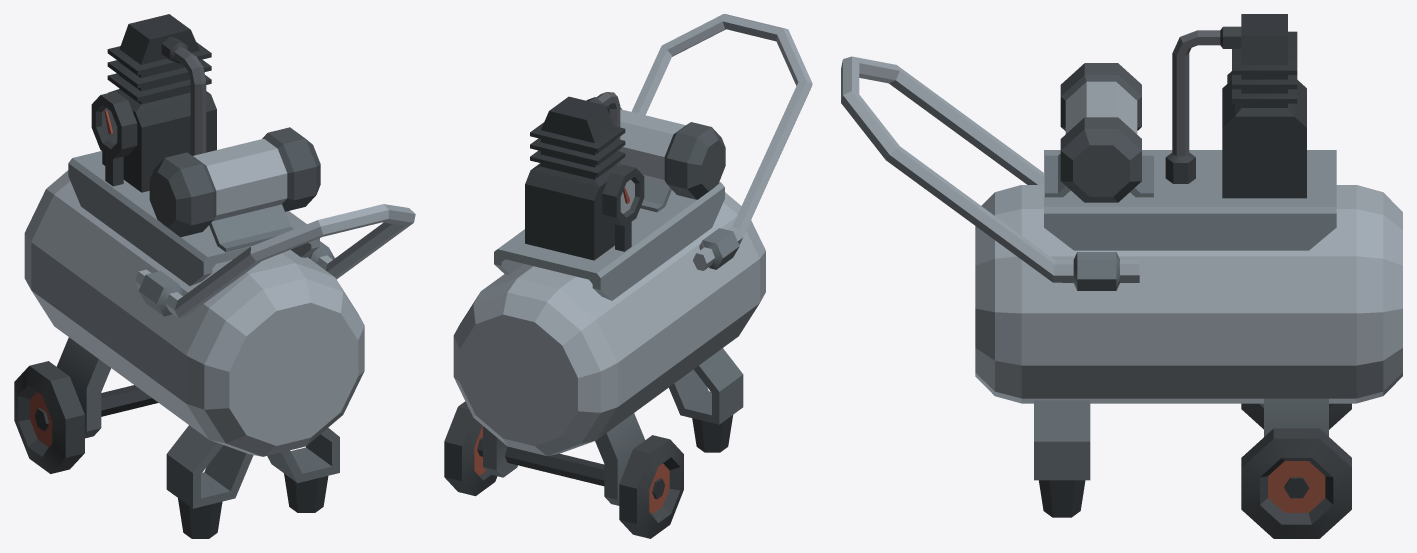
Rendered from SM_Prop_AirCompressorTank_01.fbx.
3 views of the same model, side by side, from view 1: azimuth 30°, elevation 25°; view 2: azimuth 150°, elevation 25°; view 3: azimuth 270°, elevation 25° (orthographic). The views are drawn at different scales.
Parts seen in each view (by area): view 1: SM_Prop_AirCompressorTank_01; view 2: SM_Prop_AirCompressorTank_01; view 3: SM_Prop_AirCompressorTank_01.
Part boxes in pixels (box(x1,y1,x2,y2)): SM_Prop_AirCompressorTank_01: box(14, 14, 415, 538); SM_Prop_AirCompressorTank_01: box(444, 14, 812, 538); SM_Prop_AirCompressorTank_01: box(841, 14, 1402, 538).
Bounding box in the file's own units: 60.44 × 112 × 124.
